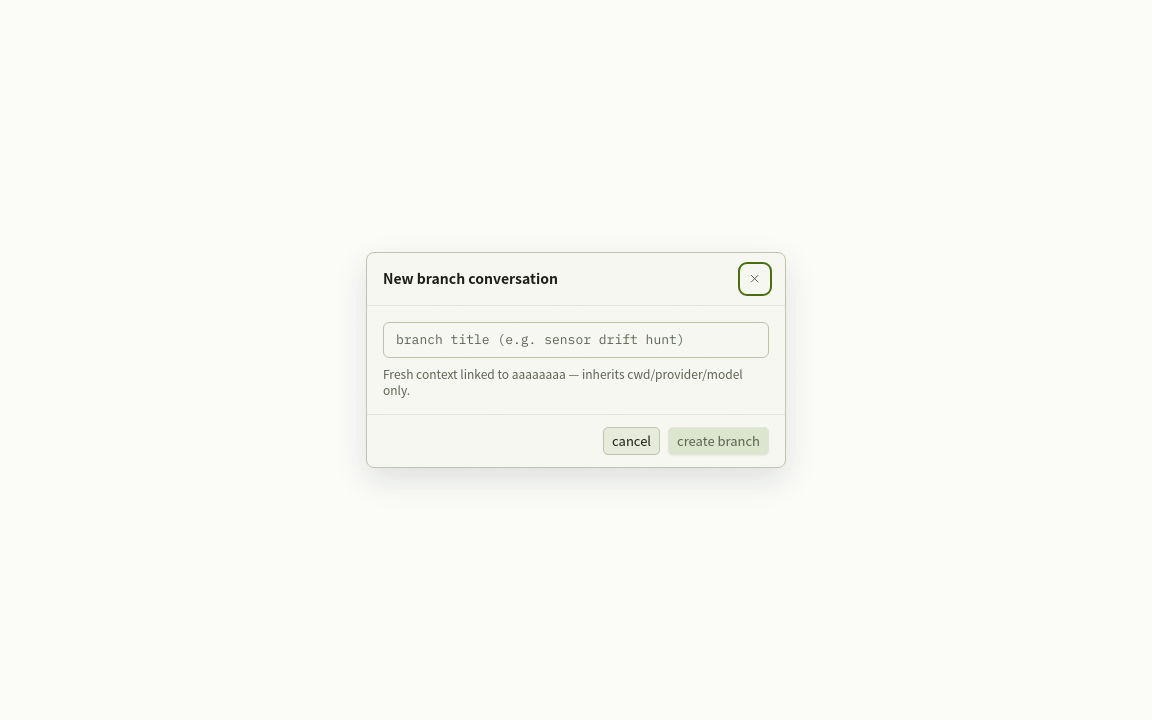
Test case: BranchDialog › abandons the name on cancel, so a reopen does not look created
Type "sensor drift hunt" into the field labelled "branch title" at (576, 340), box [396, 331, 756, 348]
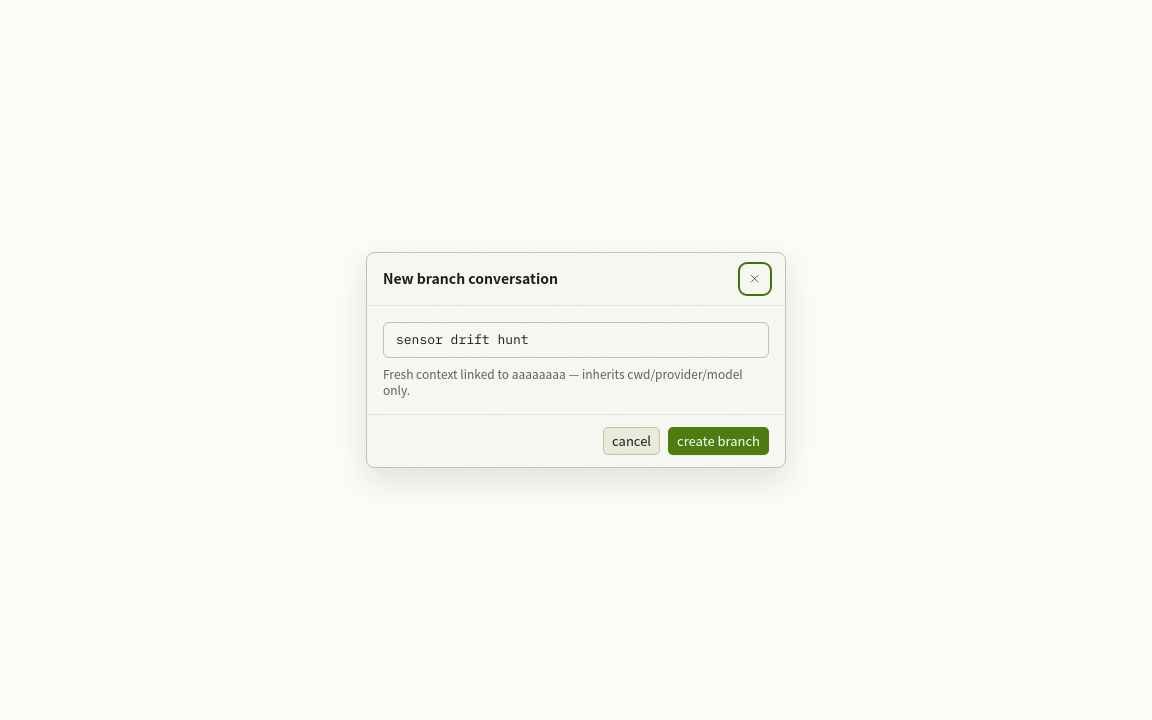
Click the button "cancel" at (632, 441), box [603, 427, 660, 455]
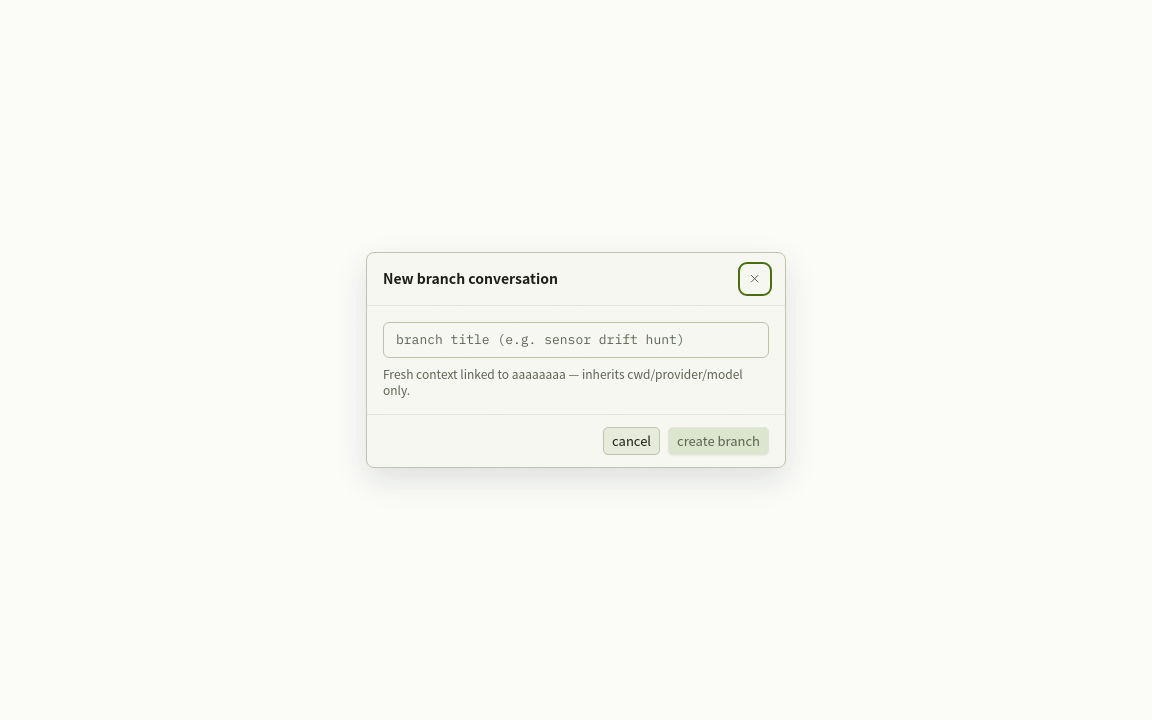
Check: the field labelled "branch title" is empty, box [396, 331, 756, 348]
